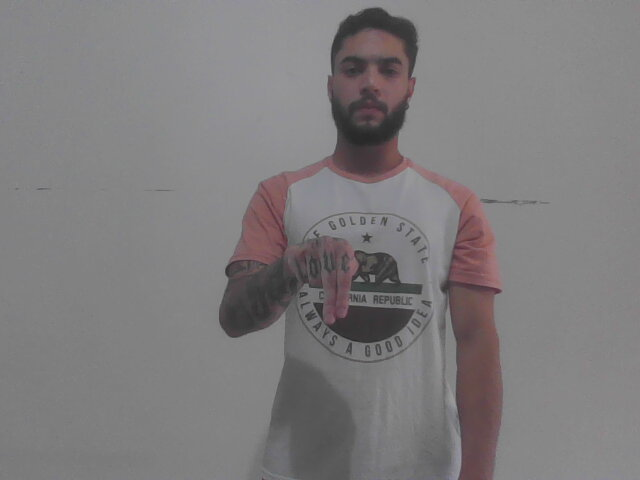n: (285, 234, 362, 327)
